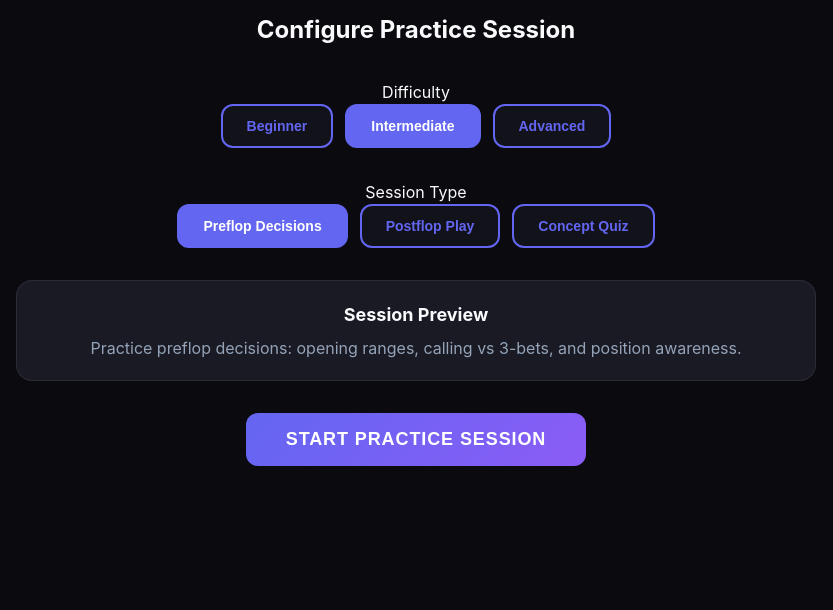
it: PracticeSession › Active Session — Preflop Scenario › should start session and show scenario
Step 1. Click the button "Start Practice Session" → (416, 440), box [246,413,586,466]
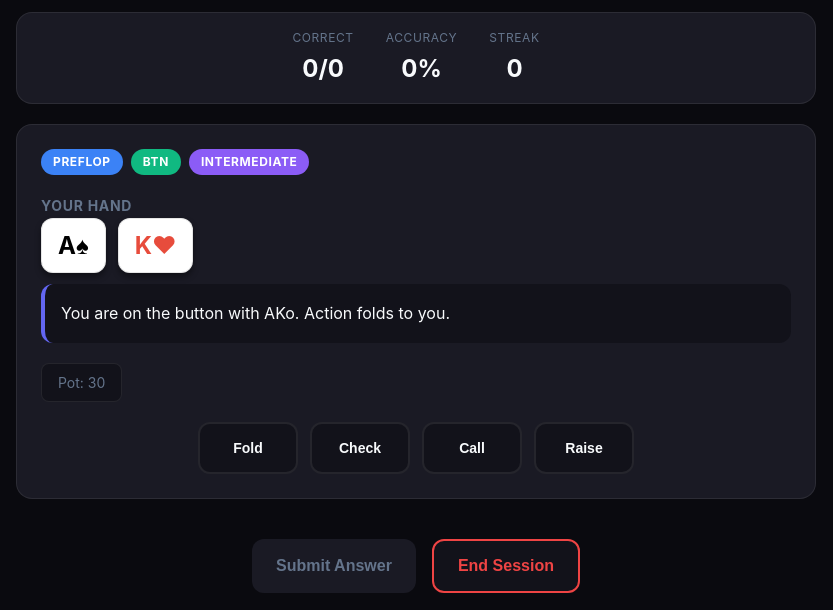
Expected: the heading "Your Hand" is shown, [41,197,132,214]
Expected: the text "You are on the button with AKo. Action folds to you." is shown, [41,284,791,343]
